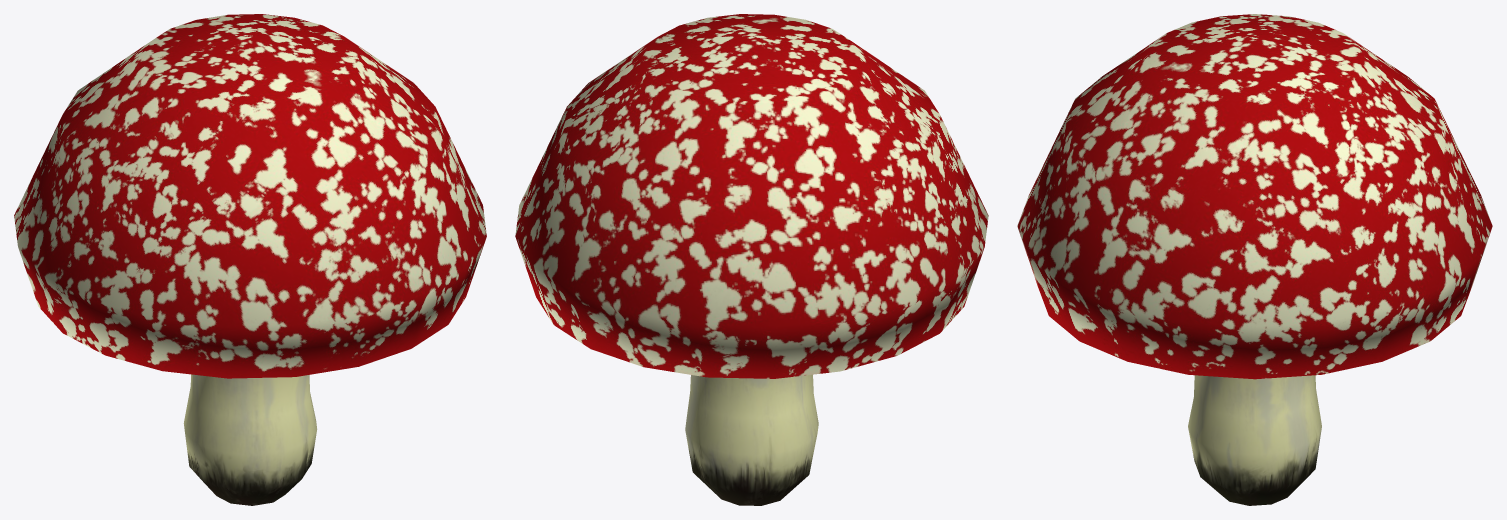
File: Mushroom1.fbx
3 views of the same model, side by side, from view 1: azimuth 30°, elevation 25°; view 2: azimuth 150°, elevation 25°; view 3: azimuth 270°, elevation 25° (orthographic).
Parts seen in each view (by area): view 1: Mushroom 3; view 2: Mushroom 3; view 3: Mushroom 3.
Part boxes in pixels (x1=…): Mushroom 3: x1=14, y1=14, x2=486, y2=505; Mushroom 3: x1=515, y1=14, x2=988, y2=505; Mushroom 3: x1=1017, y1=14, x2=1492, y2=505.
Bounding box in the file's own units: 9.5 × 9.5 × 10.25.
